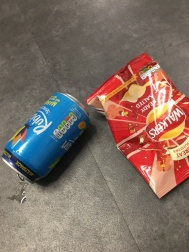can_blue: (3, 80, 100, 197)
